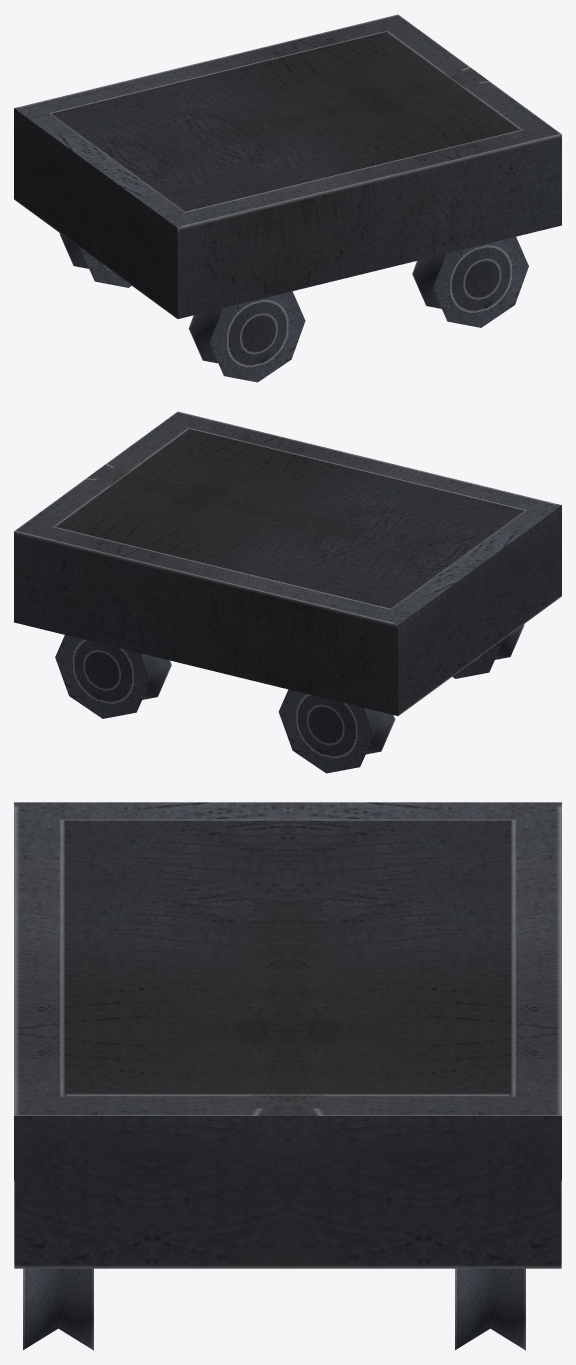
Rendered from 滑动小车.FBX.
3 renders of one model, top to bottom at view 1: azimuth 30°, elevation 25°; view 2: azimuth 150°, elevation 25°; view 3: azimuth 270°, elevation 25°, orthographic. The views are drawn at different scales.
Parts seen in each view (by area): view 1: Box09; view 2: Box09; view 3: Box09.
Part boxes in pixels (box(x1,y1,x2,y2)): Box09: box(14, 14, 561, 382); Box09: box(14, 411, 561, 773); Box09: box(14, 802, 561, 1350).
Size of the model in its own units: 10.75 by 7.94 by 4.72.
